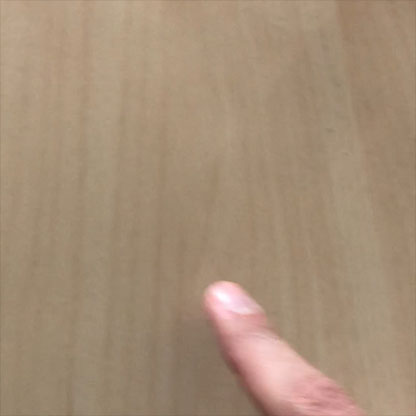fingertip: (191, 270, 283, 339)
